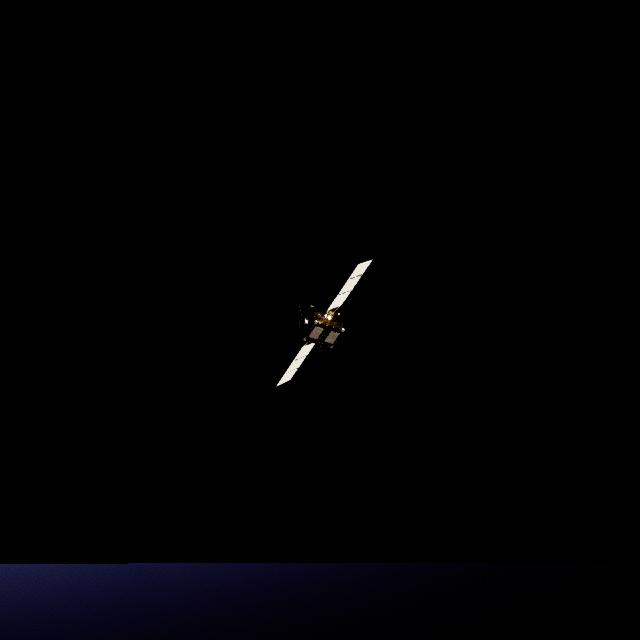medium_debris: (278, 261, 373, 389)
